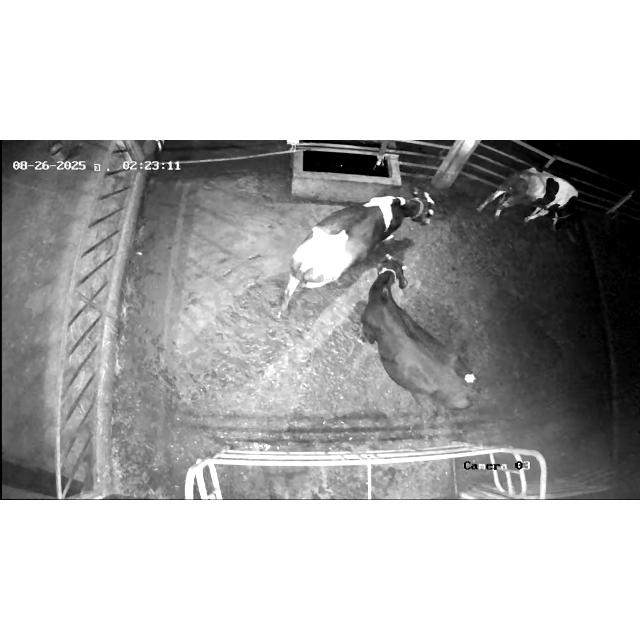stand: (274, 186, 442, 304), (365, 250, 481, 412), (482, 158, 586, 236)
